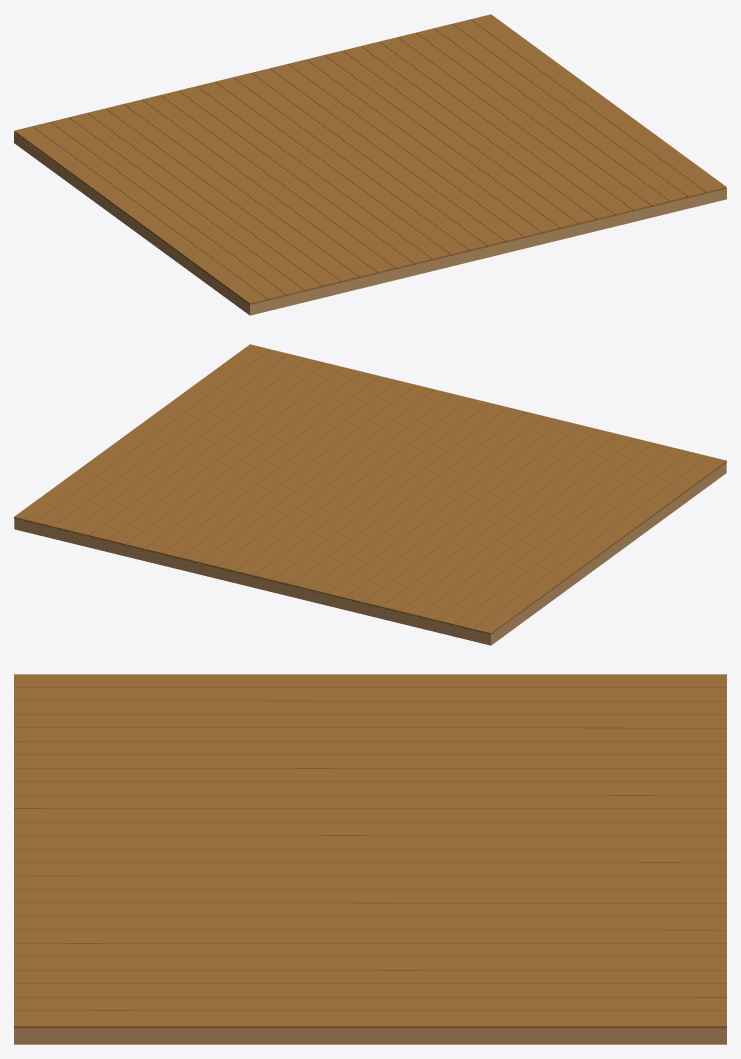
The model's file is Platform_1.fbx.
The picture shows the model from 3 angles, top to bottom: view 1: azimuth 30°, elevation 25°; view 2: azimuth 150°, elevation 25°; view 3: azimuth 270°, elevation 25°; orthographic projection. The views are drawn at different scales.
Parts seen in each view (by area): view 1: Platform_1; view 2: Platform_1; view 3: Platform_1.
Part boxes in pixels (<box>): Platform_1: <box>14,14,726,315</box>; Platform_1: <box>14,344,726,645</box>; Platform_1: <box>14,674,726,1044</box>.
Bounding box in the file's own units: 938 × 803 × 23.29.
